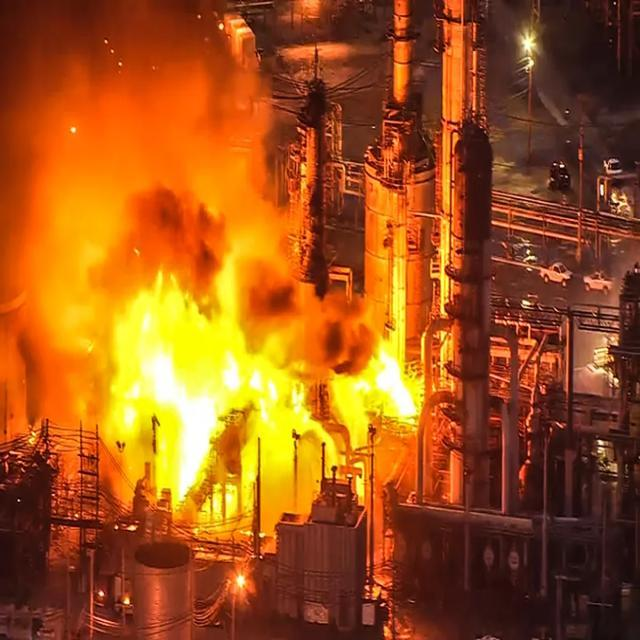fire: (82, 218, 416, 514)
